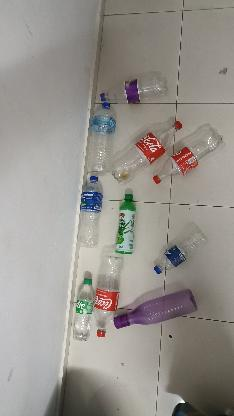Plastic Bottle: (115, 112, 215, 190), (126, 284, 198, 332), (154, 224, 212, 280), (73, 168, 105, 248), (96, 72, 170, 104), (70, 260, 94, 342), (115, 188, 141, 258)
